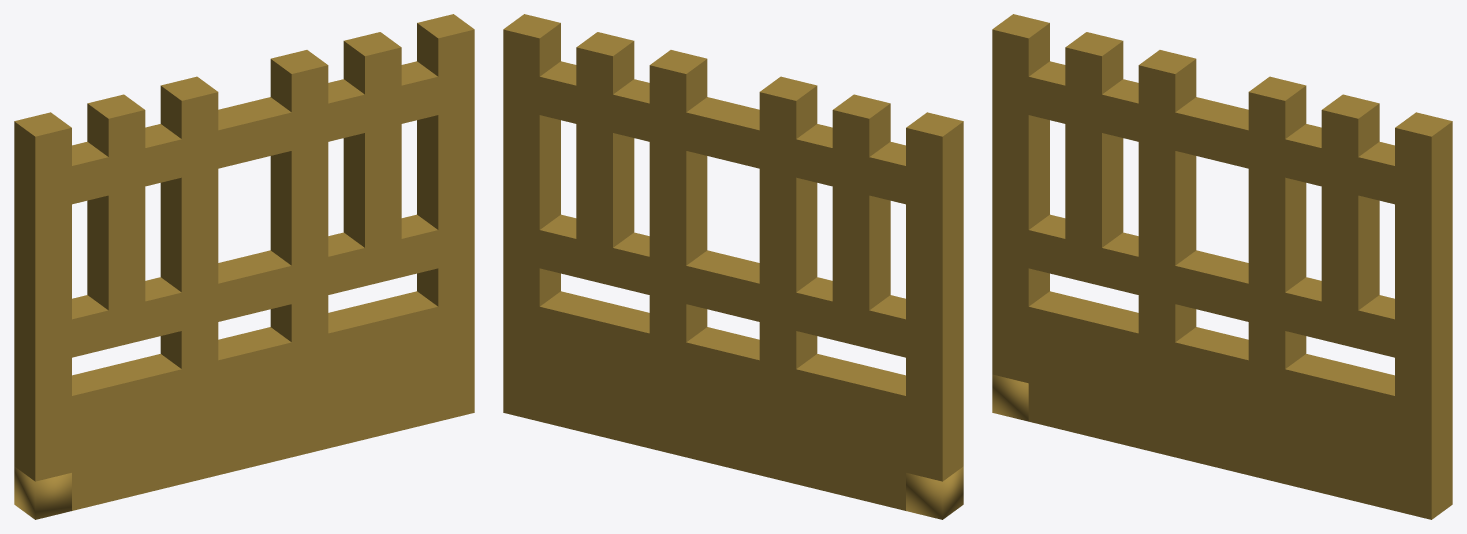
The model's file is Fence.fbx.
3 renders of one model, left to right at view 1: azimuth 30°, elevation 25°; view 2: azimuth 150°, elevation 25°; view 3: azimuth 330°, elevation 25°, orthographic.
Parts seen in each view (by area): view 1: Fence:cube_24, Fence:cube_39, Fence:cube_59, Fence:cube_73, Fence:cube_10, Fence:cube_88, Fence:cube_20, Fence:cube_21, Fence:cube_35, Fence:cube_55, Fence:cube_56, Fence:cube_69 (+76 smaller); view 2: Fence:cube_24, Fence:cube_39, Fence:cube_59, Fence:cube_73, Fence:cube_10, Fence:cube_88, Fence:cube_20, Fence:cube_21, Fence:cube_35, Fence:cube_55, Fence:cube_56, Fence:cube_69 (+76 smaller); view 3: Fence:cube_73, Fence:cube_24, Fence:cube_39, Fence:cube_59, Fence:cube_10, Fence:cube_88, Fence:cube_20, Fence:cube_21, Fence:cube_35, Fence:cube_36, Fence:cube_55, Fence:cube_69 (+76 smaller).
Part boxes in pixels (bbox=[...]): Fence:cube_24: bbox=[87, 94, 145, 156]; Fence:cube_39: bbox=[160, 76, 218, 138]; Fence:cube_59: bbox=[270, 50, 328, 112]; Fence:cube_73: bbox=[343, 32, 401, 94]; Fence:cube_10: bbox=[14, 112, 71, 174]; Fence:cube_88: bbox=[417, 14, 474, 76]; Fence:cube_20: bbox=[87, 257, 145, 310]; Fence:cube_21: bbox=[87, 218, 145, 271]; Fence:cube_35: bbox=[160, 239, 218, 292]; Fence:cube_55: bbox=[270, 212, 328, 265]; Fence:cube_56: bbox=[270, 174, 328, 227]; Fence:cube_69: bbox=[343, 194, 401, 247]; Fence:cube_24: bbox=[832, 94, 890, 156]; Fence:cube_39: bbox=[759, 76, 817, 138]; Fence:cube_59: bbox=[649, 50, 707, 112]; Fence:cube_73: bbox=[576, 32, 634, 94]; Fence:cube_10: bbox=[906, 112, 963, 174]; Fence:cube_88: bbox=[503, 14, 560, 76]; Fence:cube_20: bbox=[832, 257, 890, 310]; Fence:cube_21: bbox=[832, 218, 890, 271]; Fence:cube_35: bbox=[759, 239, 817, 292]; Fence:cube_55: bbox=[649, 212, 707, 265]; Fence:cube_56: bbox=[649, 174, 707, 227]; Fence:cube_69: bbox=[576, 194, 634, 247]; Fence:cube_73: bbox=[1321, 94, 1379, 156]; Fence:cube_24: bbox=[1065, 32, 1123, 94]; Fence:cube_39: bbox=[1138, 50, 1196, 112]; Fence:cube_59: bbox=[1248, 76, 1306, 138]; Fence:cube_10: bbox=[992, 14, 1049, 76]; Fence:cube_88: bbox=[1395, 112, 1452, 174]; Fence:cube_20: bbox=[1065, 194, 1123, 247]; Fence:cube_21: bbox=[1065, 156, 1123, 209]; Fence:cube_35: bbox=[1138, 212, 1196, 265]; Fence:cube_36: bbox=[1138, 174, 1196, 227]; Fence:cube_55: bbox=[1248, 239, 1306, 292]; Fence:cube_69: bbox=[1321, 257, 1379, 310].
Size of the model in its own units: 12 by 10 by 1.
